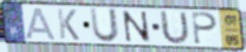A: (25, 6, 59, 41)
K: (55, 7, 81, 42)
N: (121, 9, 153, 44)
P: (191, 11, 219, 46)
U: (88, 6, 120, 45), (160, 9, 191, 46)
